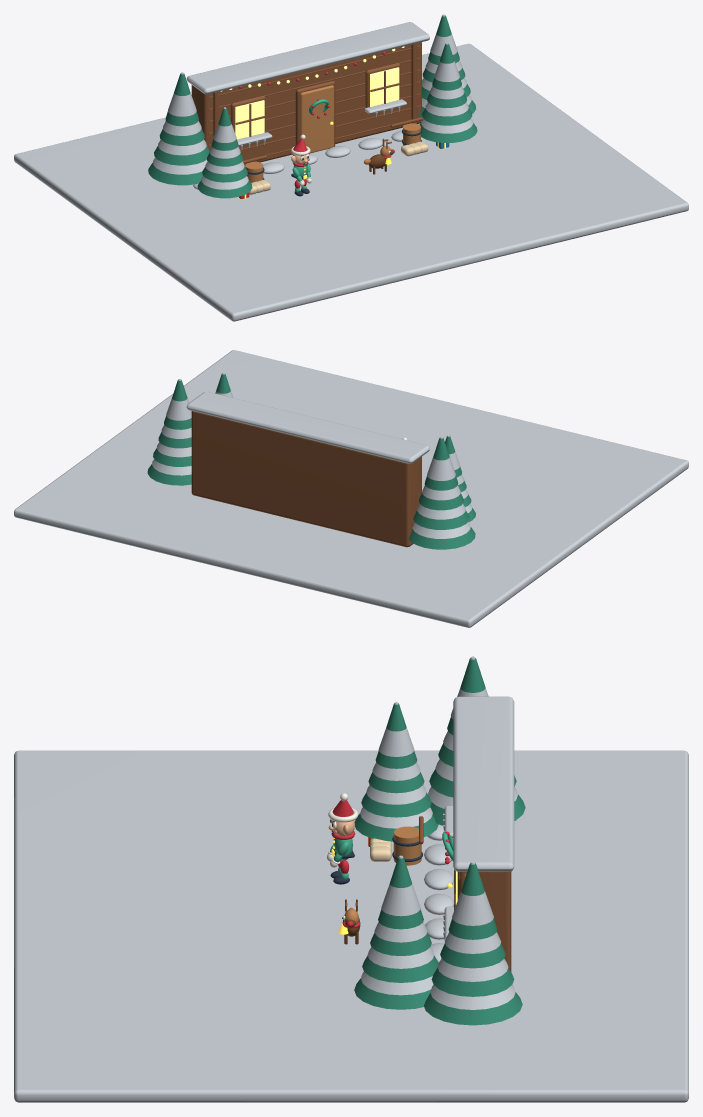
The model's file is chapter-21.glb.
3 renders of one model, top to bottom at view 1: azimuth 30°, elevation 25°; view 2: azimuth 150°, elevation 25°; view 3: azimuth 270°, elevation 25°, orthographic. The views are drawn at different scales.
Visible parts, largest first — view 1: Schneeboden, Werkstatt, Schneegesims, Wichteltür, Warmes Fenster, Warmes Fenster.001, Tannenzweig.008, Tannenzweig.009, Türrahmen, Tannenzweig.011, Tannenzweig.004, Schnee.011 (+6 smaller); view 2: Schneeboden, Werkstatt, Schneegesims, Tannenzweig.008, Tannenzweig.009, Tannenzweig.011, Schnee.008, Schnee.011, Tannenzweig.015, Tannenzweig.012, Tannenzweig.010, Schnee.009 (+1 smaller); view 3: Schneeboden, Schneegesims, Werkstatt, Tannenzweig.012, Tannenzweig.013, Tannenzweig.015, Schnee.012, Tannenzweig.005, Tannenzweig.004, Schnee.015, Tannenzweig.007, Schnee.013 (+16 smaller).
Part boxes in pixels (x1,y1,x2,y2): Schneeboden: (14, 43, 688, 321); Werkstatt: (191, 42, 421, 165); Schneegesims: (186, 22, 429, 94); Wichteltür: (300, 85, 333, 153); Warmes Fenster: (235, 100, 264, 139); Warmes Fenster.001: (370, 67, 399, 106); Tannenzweig.008: (148, 163, 202, 185); Tannenzweig.009: (154, 146, 209, 165); Türrahmen: (295, 81, 335, 146); Tannenzweig.011: (165, 73, 198, 126); Tannenzweig.004: (419, 122, 477, 142); Schnee.011: (168, 72, 196, 116); Schneeboden: (14, 350, 688, 627); Werkstatt: (191, 411, 421, 547); Schneegesims: (186, 391, 429, 463); Tannenzweig.008: (408, 527, 475, 549); Tannenzweig.009: (413, 510, 469, 529); Tannenzweig.011: (424, 437, 458, 490); Schnee.008: (412, 522, 470, 538); Schnee.011: (427, 436, 455, 480); Tannenzweig.015: (164, 380, 191, 429); Tannenzweig.012: (147, 464, 191, 485); Tannenzweig.010: (419, 493, 463, 510); Schnee.009: (417, 504, 465, 519); Schneeboden: (14, 750, 688, 1102); Schneegesims: (453, 696, 514, 871); Werkstatt: (466, 871, 511, 971); Tannenzweig.012: (424, 992, 522, 1025); Tannenzweig.013: (431, 968, 514, 996); Tannenzweig.015: (448, 863, 497, 939); Schnee.012: (430, 985, 515, 1009); Tannenzweig.005: (362, 955, 438, 982); Tannenzweig.004: (354, 978, 430, 1009); Schnee.015: (452, 861, 493, 925); Tannenzweig.007: (378, 857, 423, 929); Schnee.013: (437, 959, 508, 981).
Bounding box in the file's own units: 18 × 4.39 × 15.
